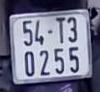0: (22, 50, 36, 78)
2: (37, 48, 53, 78)
3: (66, 14, 79, 43)
4: (33, 17, 45, 46)
5: (67, 45, 81, 74), (21, 17, 33, 47), (54, 47, 66, 75)
T: (54, 16, 66, 45)
